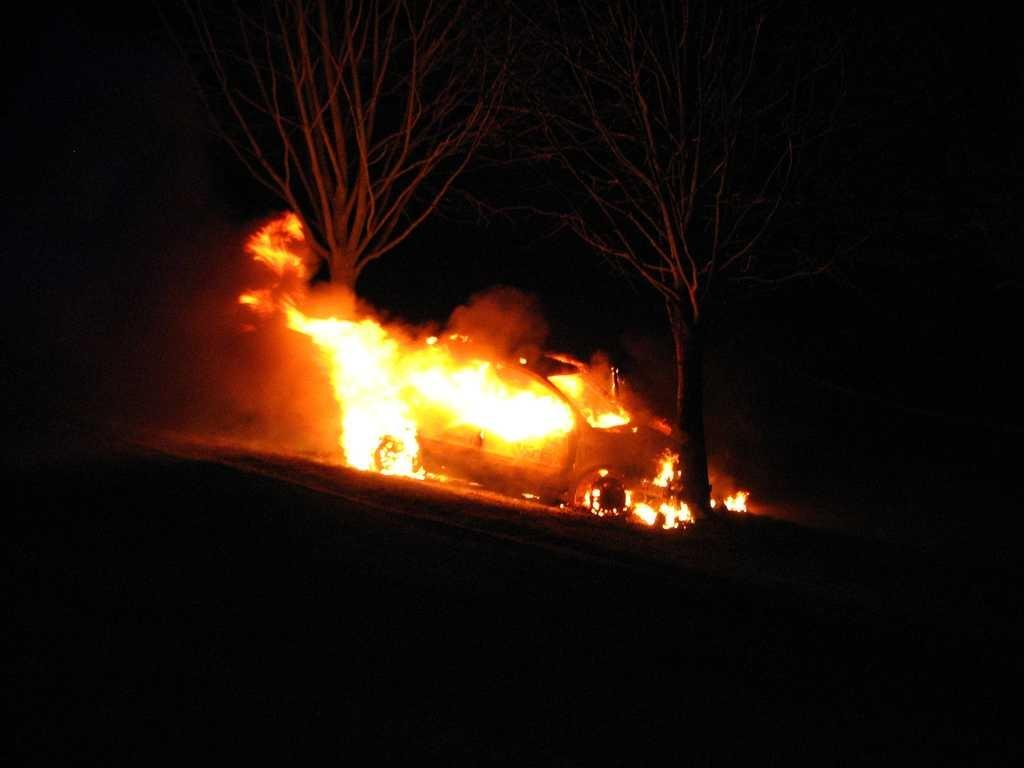fire: (435, 375, 547, 433), (350, 340, 397, 455)
